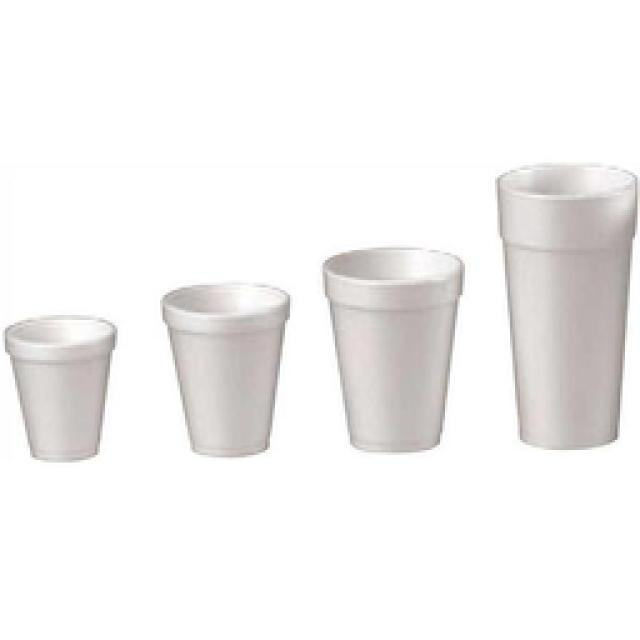styrofoam: (498, 165, 635, 448), (322, 248, 462, 450), (162, 282, 288, 455), (5, 315, 115, 458)
